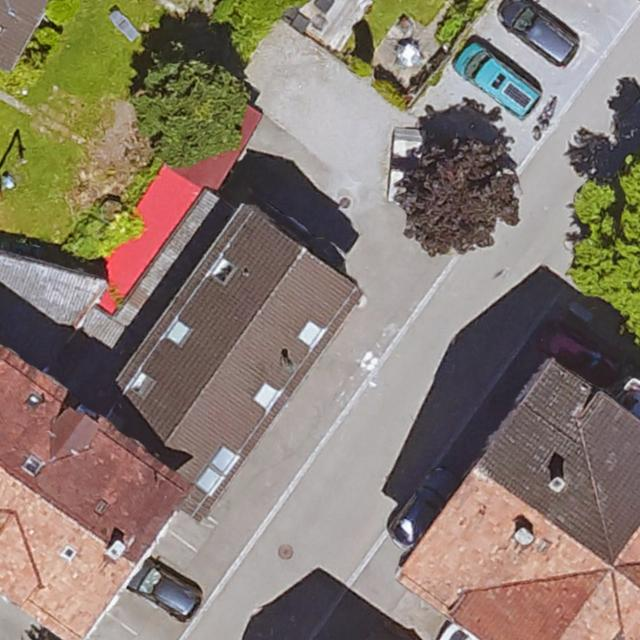tree: (399, 137, 518, 254), (576, 152, 639, 352), (133, 60, 248, 165)
